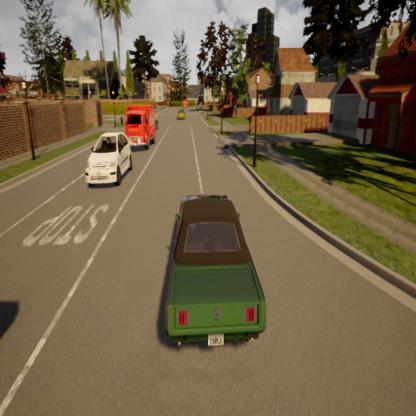Cars: (152, 178, 274, 367), (81, 129, 134, 197), (119, 102, 160, 153), (175, 108, 188, 122)
